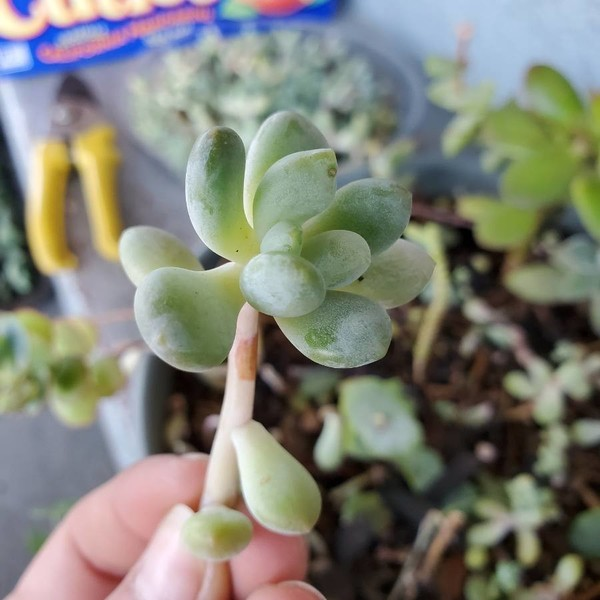obstacle: (106, 92, 374, 538)
